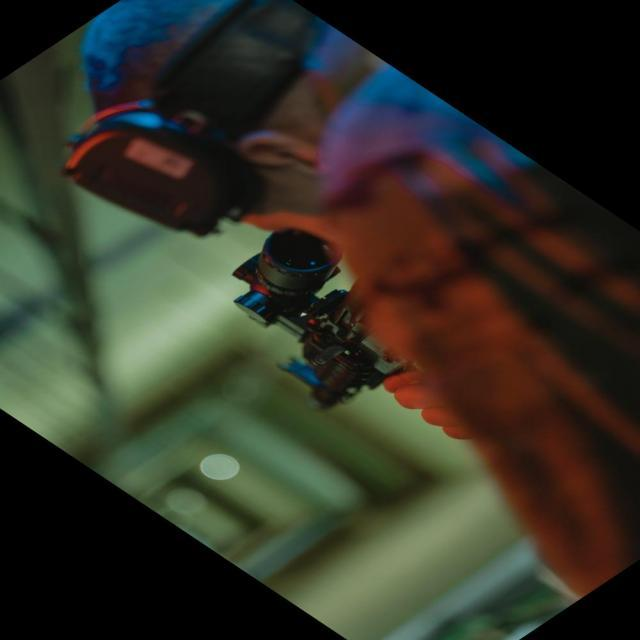weapon: (230, 223, 415, 414)
